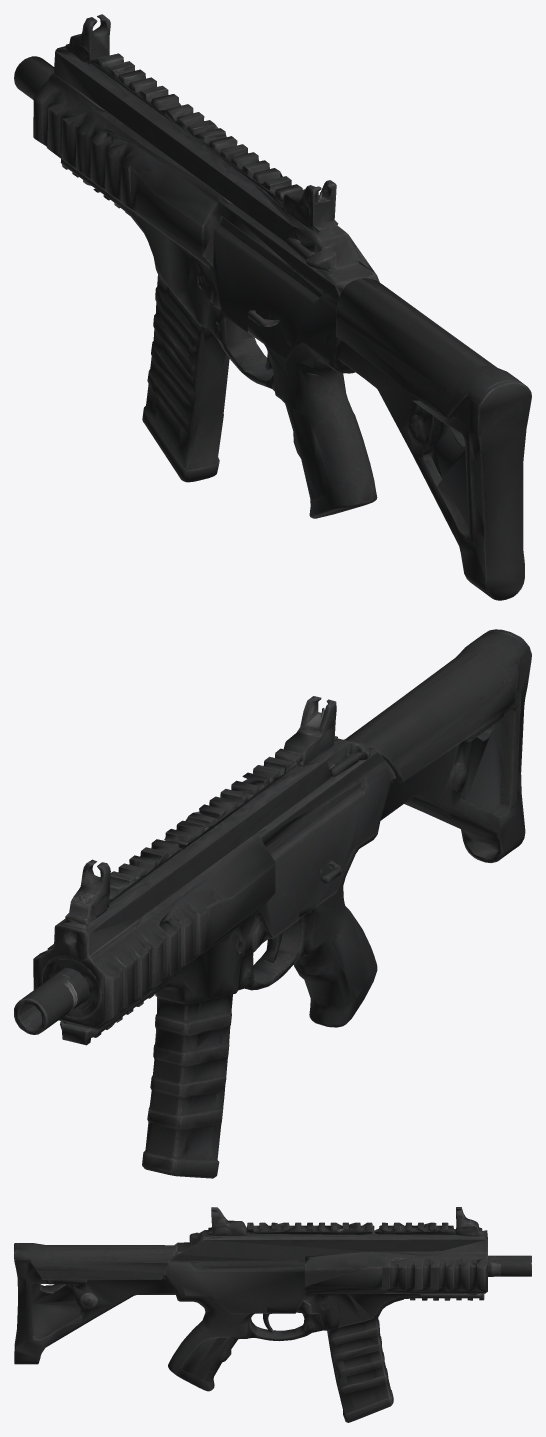
File: smg_skiff.glb
3 views of the same model, one above another, from view 1: azimuth 30°, elevation 25°; view 2: azimuth 150°, elevation 25°; view 3: azimuth 270°, elevation 25° (orthographic). The views are drawn at different scales.
Parts seen in each view (by area): view 1: smg_skiff; view 2: smg_skiff; view 3: smg_skiff.
Part boxes in pixels (left/top/right/bottom): smg_skiff: left=14, top=14, right=531, bottom=600; smg_skiff: left=14, top=629, right=531, bottom=1178; smg_skiff: left=14, top=1207, right=531, bottom=1422.
Size of the model in its own units: 0.053 by 0.2421 by 0.54.
Materials: 1 (1 with a texture image).
